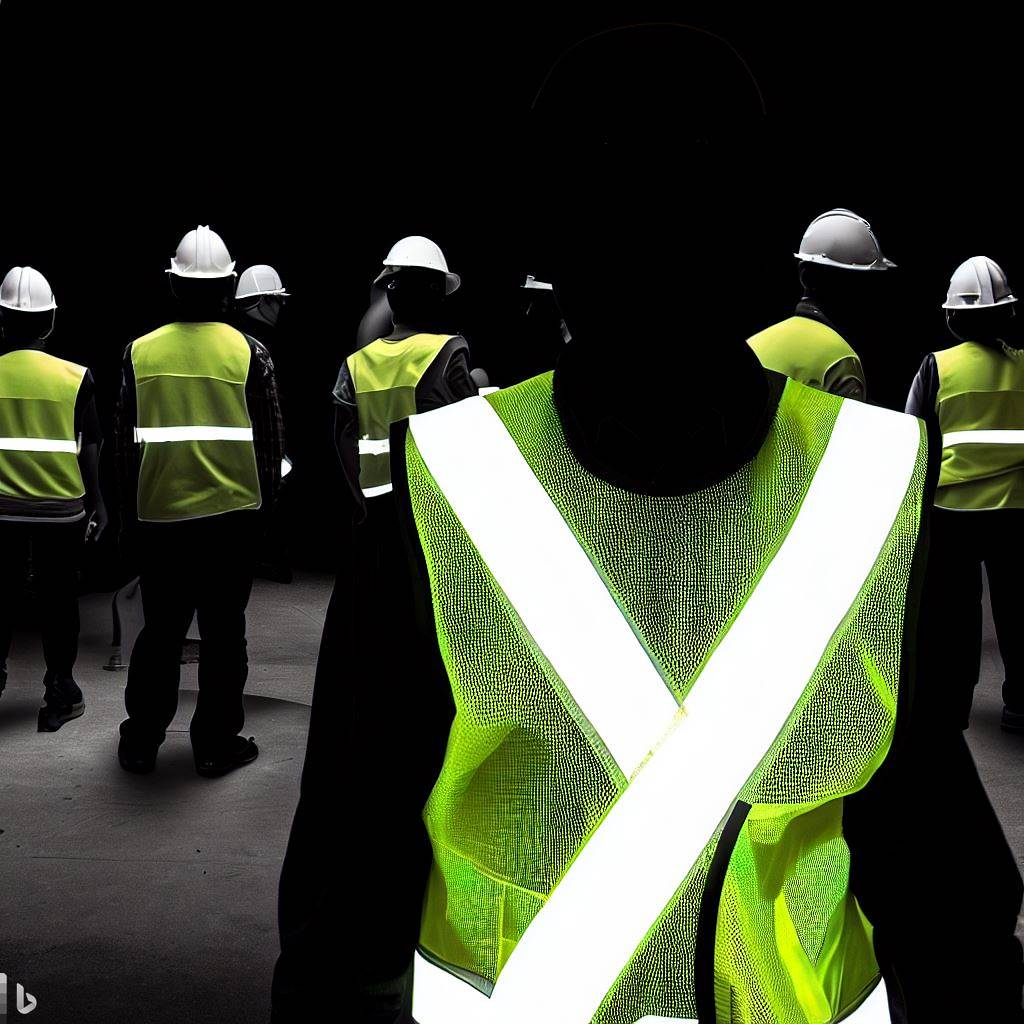Helmet: (788, 192, 897, 281), (368, 232, 469, 299), (935, 244, 1024, 320), (157, 214, 244, 284), (224, 256, 301, 306), (1, 261, 61, 317)
Reflective vest: (392, 370, 929, 1023), (120, 320, 267, 523), (347, 330, 462, 512), (925, 338, 1024, 527), (1, 344, 99, 525)
